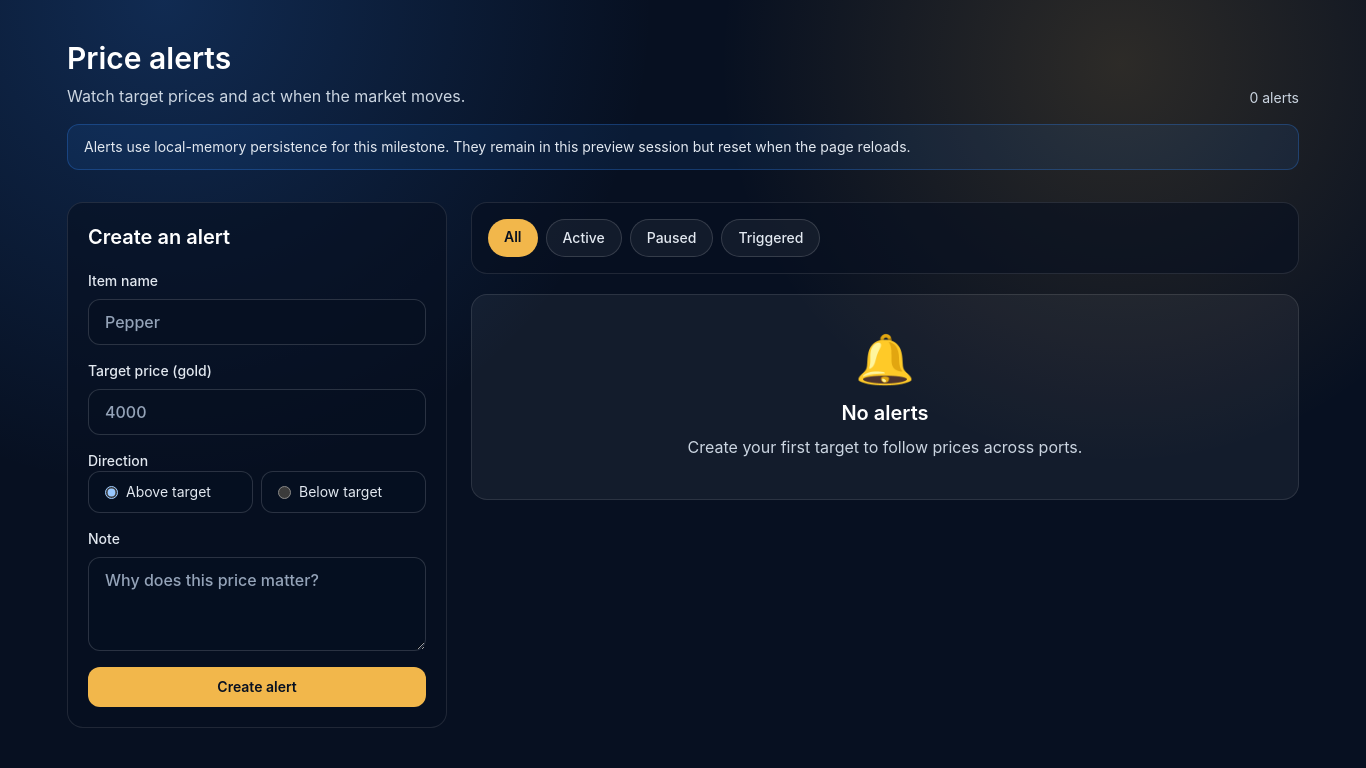
Test case: PriceAlertsPage › updates the repository query when a status filter link is selected
Check: the text "0 alerts" is shown, box [1250, 88, 1299, 108]
Click the link "Triggered" at x=771, y=238, box [721, 219, 820, 257]
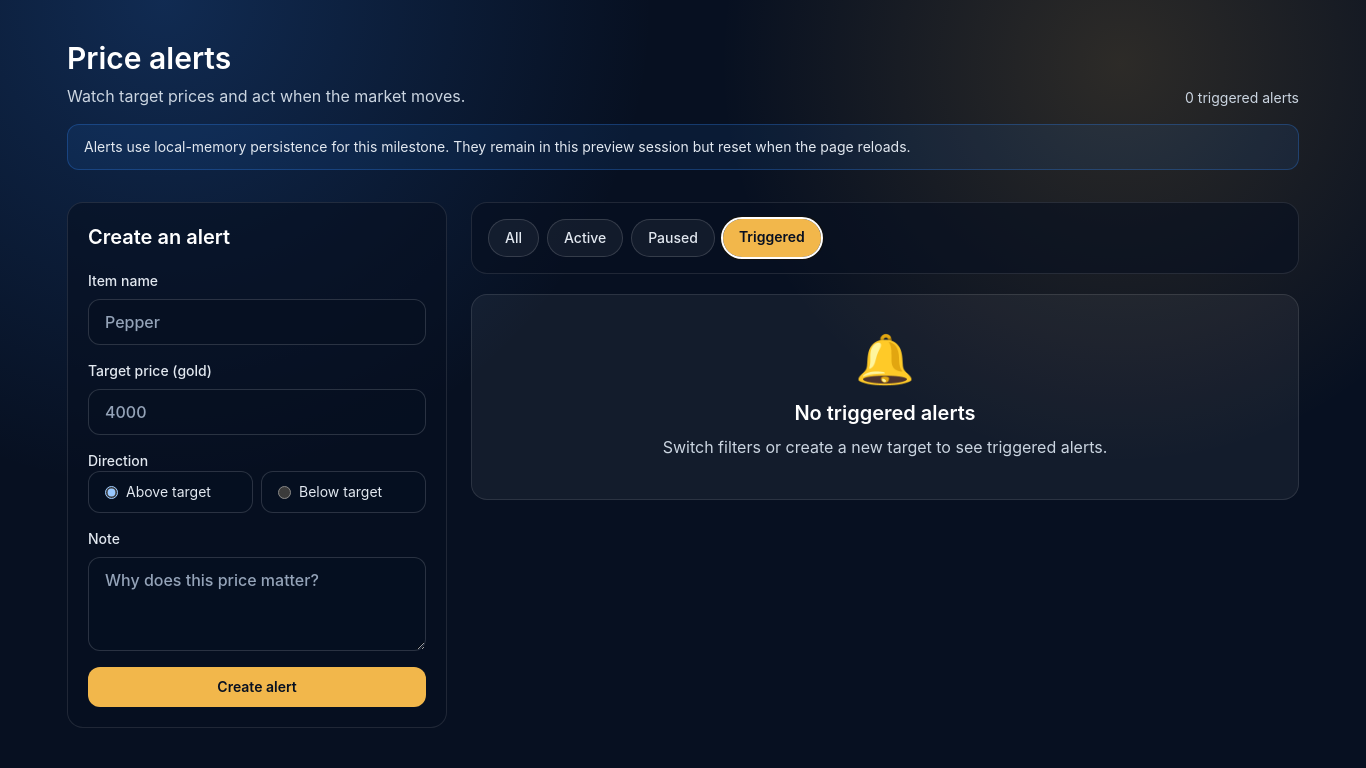
Check: the text "0 triggered alerts" is shown, box [1185, 88, 1299, 108]
